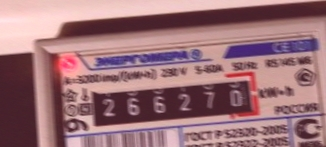0: (227, 86, 243, 107)
2: (100, 95, 115, 117), (177, 90, 192, 111)
6: (125, 94, 139, 116), (151, 92, 166, 112)
7: (203, 88, 215, 108)
screen: (78, 65, 265, 136)
